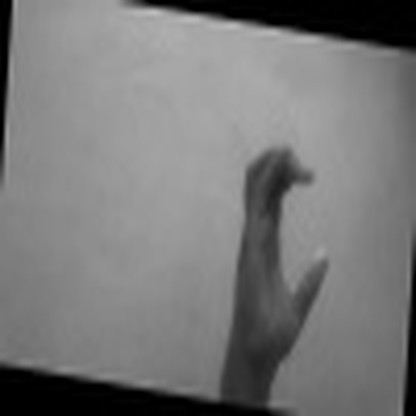c: (228, 136, 331, 362)
